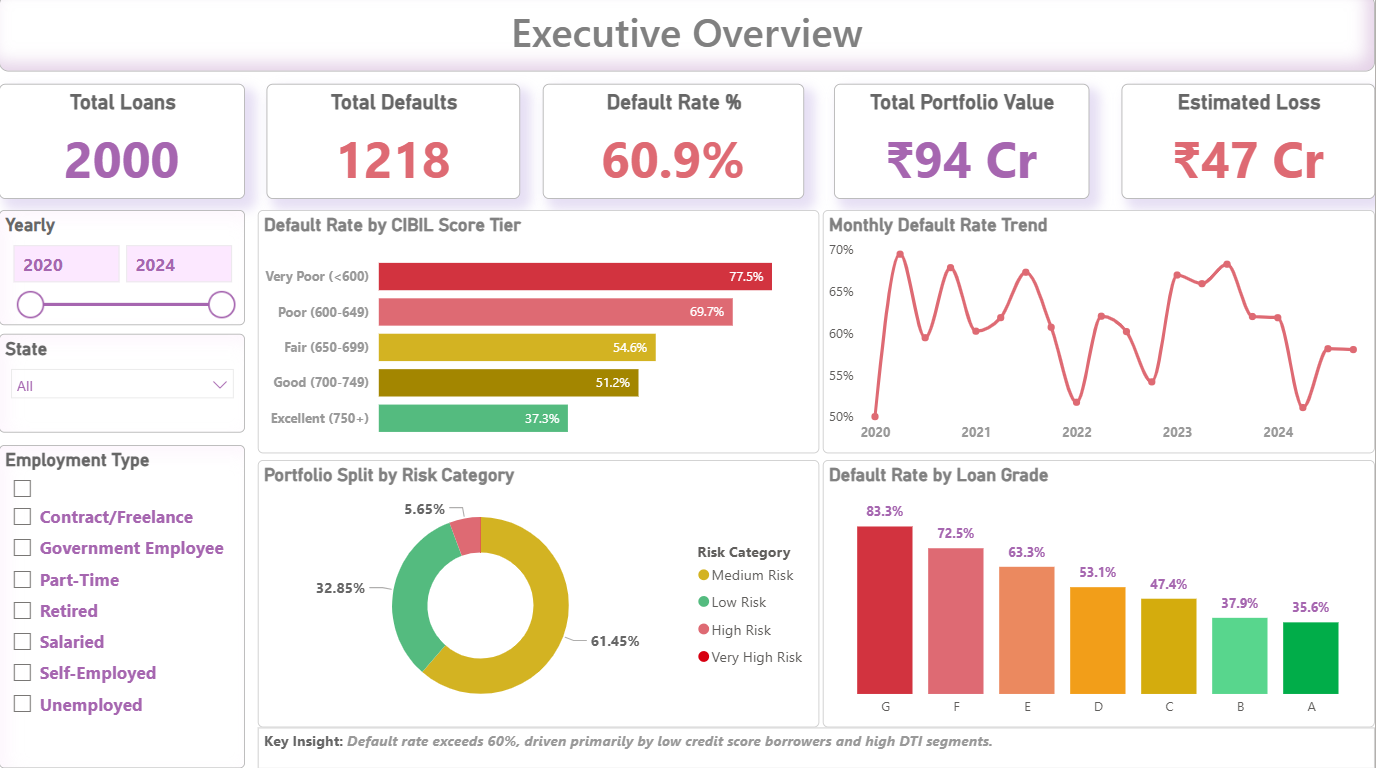

Layout of this report page (visuals, bound fields, positions):
{"tool":"powerbi","page":{"name":"Executive Summary","canvas":[1280,720],"ordinal":0},"visuals":[{"type":"card","title":"Total Loans","fields":{"Values":["CountNonNull(loan_default_clean_analysed.loan_id)"]},"box":[0,82.6,229.1,107],"z":0},{"type":"textbox","box":[0,0,1280.2,70.9],"z":1000},{"type":"card","title":"Total Portfolio Value","fields":{"Values":["loan_default_clean_analysed.Total Portfolio Value"]},"box":[776.7,82.6,237.2,107],"z":2000},{"type":"card","title":"Total Defaults","fields":{"Values":["Sum(loan_default_clean_analysed.default_status)"]},"box":[248.8,82.6,236,107],"z":3000},{"type":"card","title":"Estimated Loss","fields":{"Values":["loan_default_clean_analysed.Estimated Loss"]},"box":[1044.2,82.6,236,107],"z":4000},{"type":"card","title":"Default Rate %","fields":{"Values":["loan_default_clean_analysed.Default Rate"]},"box":[505.8,82.6,243,107],"z":5000},{"type":"slicer","title":"Yearly","fields":{"Values":["loan_default_clean_analysed.app_year"]},"box":[0,200,229.1,107],"z":6000},{"type":"slicer","title":"State","fields":{"Values":["loan_default_clean_analysed.state"]},"box":[0,315.1,229.1,91.9],"z":7000},{"type":"slicer","title":"Employment Type","fields":{"Values":["loan_default_clean_analysed.employment_status"]},"box":[0,418.6,229.1,301.2],"z":8000},{"type":"clusteredBarChart","title":"Default Rate by CIBIL Score Tier","fields":{"Y":["loan_default_clean_analysed.Default Rate"],"Category":["loan_default_clean_analysed.credit_tier"]},"box":[240.7,200,522.1,226.7],"z":9000},{"type":"donutChart","title":"Portfolio Split by Risk Category","fields":{"Category":["loan_default_clean_analysed.risk_category"],"Y":["CountNonNull(loan_default_clean_analysed.loan_id)"]},"box":[240.7,432.6,522.1,248.8],"z":10000},{"type":"lineChart","title":"Monthly Default Rate Trend","fields":{"Y":["loan_default_clean_analysed.Default Rate"],"Category":["loan_default_clean_analysed.application_date.Variation.Date Hierarchy.Year","loan_default_clean_analysed.application_date.Variation.Date Hierarchy.Quarter"]},"box":[766.3,200,514,226.7],"z":11000},{"type":"columnChart","title":"Default Rate by Loan Grade","fields":{"Category":["loan_default_clean_analysed.loan_grade"],"Y":["loan_default_clean_analysed.Default Rate"]},"box":[766.3,432.6,514,248.8],"z":12000},{"type":"textbox","box":[240.7,681.4,1039.5,38.4],"z":12001}]}

Visuals, with their boxes in screenshot pixels (x1, y1, x2, y2), scaled from the page's 1280x720 canvas onto the 1378x768 screenshot:
"Total Loans" card: 0 88 247 202
textbox: 0 0 1377 76
"Total Portfolio Value" card: 836 88 1092 202
"Total Defaults" card: 268 88 522 202
"Estimated Loss" card: 1124 88 1377 202
"Default Rate %" card: 545 88 806 202
"Yearly" slicer: 0 213 247 327
"State" slicer: 0 336 247 434
"Employment Type" slicer: 0 447 247 767
"Default Rate by CIBIL Score Tier" clusteredBarChart: 259 213 821 455
"Portfolio Split by Risk Category" donutChart: 259 461 821 727
"Monthly Default Rate Trend" lineChart: 825 213 1377 455
"Default Rate by Loan Grade" columnChart: 825 461 1377 727
textbox: 259 727 1377 767
